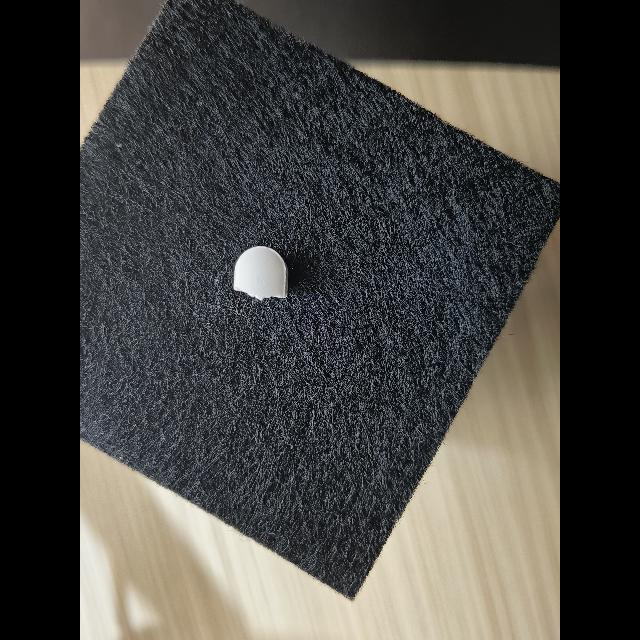Chipped Pill: (233, 246, 288, 301)
